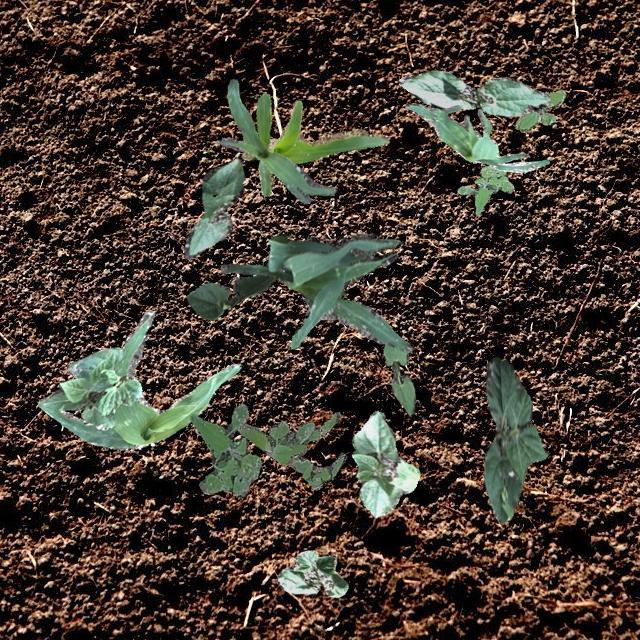crop: (38, 308, 240, 449), (220, 232, 412, 352), (240, 92, 388, 196), (216, 78, 334, 202), (482, 357, 546, 522), (404, 102, 548, 172), (41, 346, 140, 428), (351, 409, 418, 516), (398, 68, 550, 115), (182, 156, 244, 258), (186, 274, 274, 318), (276, 550, 346, 596), (382, 342, 413, 414)
weed: (236, 410, 346, 490), (188, 402, 260, 497), (457, 164, 512, 213), (514, 88, 564, 130)
